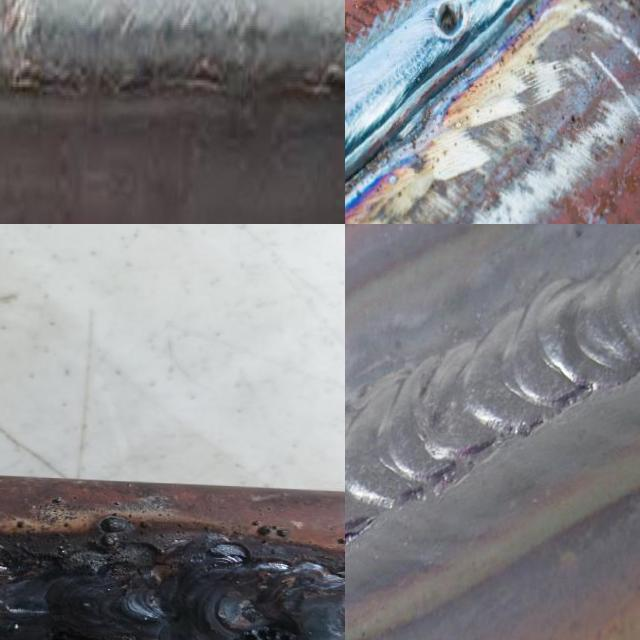defect: (433, 1, 464, 43), (227, 626, 301, 640)
